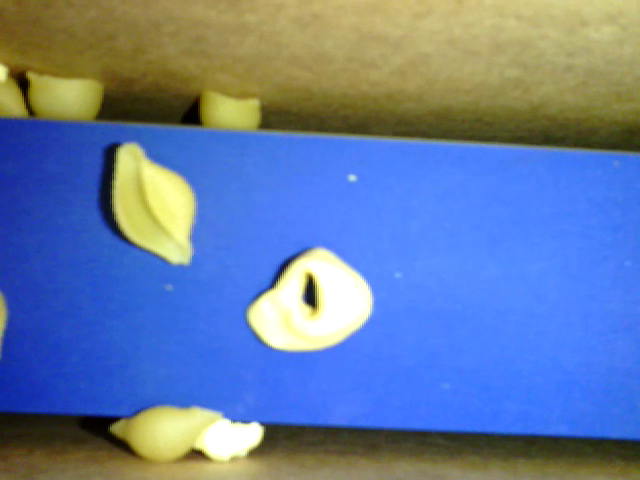shell: (111, 142, 196, 266), (108, 406, 224, 465), (24, 70, 104, 120), (199, 90, 262, 128)
tortellini: (247, 245, 374, 352)
